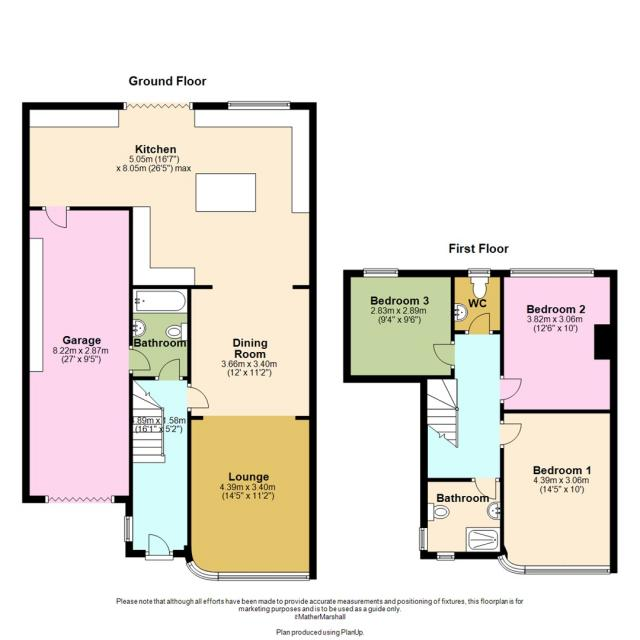DOOR: (145, 534, 174, 561), (41, 206, 70, 229), (500, 419, 522, 449), (471, 478, 500, 500), (500, 375, 522, 404), (465, 312, 494, 334), (433, 340, 455, 369), (129, 345, 151, 374), (155, 358, 184, 380), (187, 383, 209, 412)
ROOM: (22, 102, 317, 581), (496, 409, 618, 575), (499, 268, 618, 414), (343, 268, 455, 383)
WINDOW: (185, 559, 310, 581), (496, 554, 611, 575), (510, 268, 595, 278), (227, 100, 291, 110), (363, 268, 399, 278), (123, 515, 134, 543), (468, 268, 491, 278), (419, 527, 428, 551), (436, 551, 455, 561)
